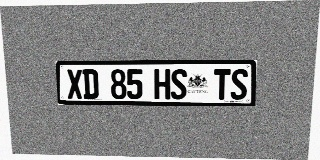5: (127, 69, 143, 99)
8: (110, 69, 127, 99)
D: (82, 69, 99, 99)
H: (154, 69, 170, 99)
S: (230, 69, 248, 100), (171, 69, 187, 99)
T: (213, 69, 231, 100)
X: (66, 69, 83, 99)
